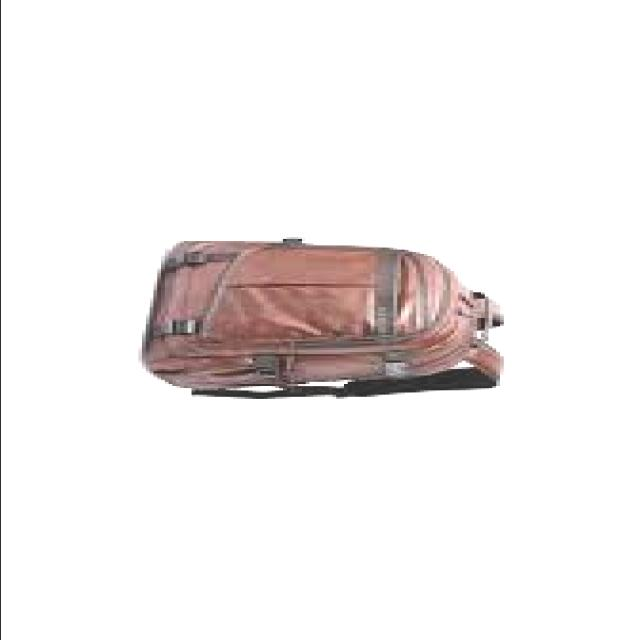backpack: (146, 238, 508, 400)
